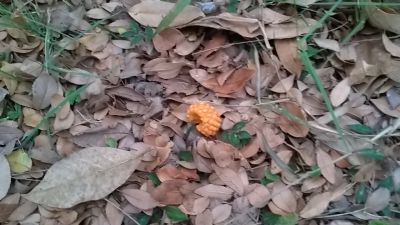eggs: (185, 102, 224, 137)
